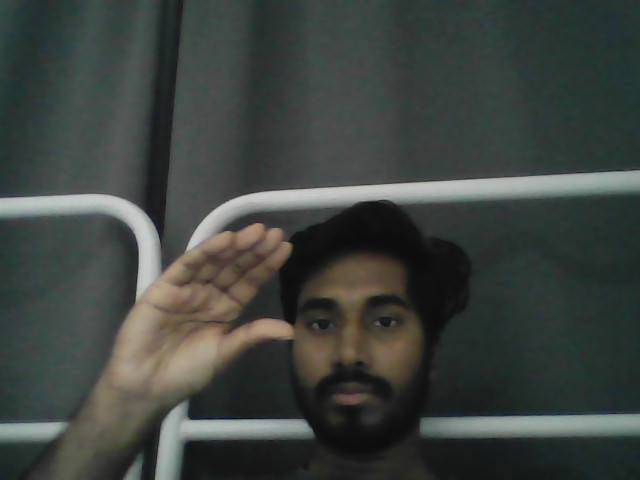no: (104, 222, 300, 405)
